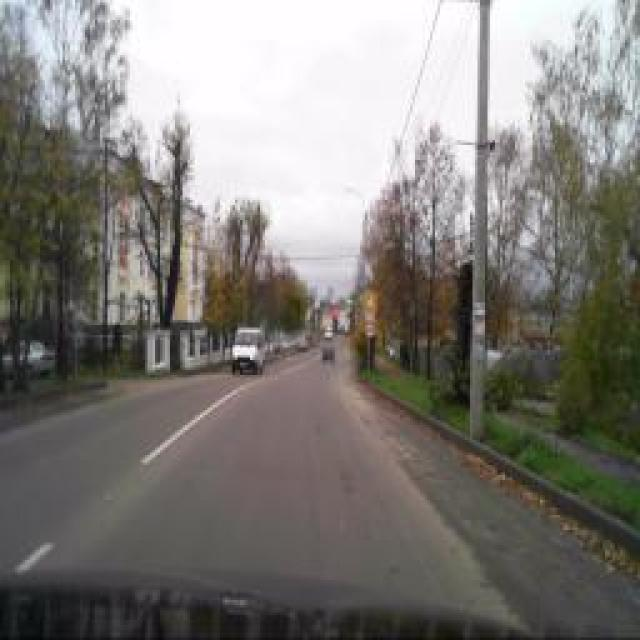sign: (366, 324, 374, 338)
